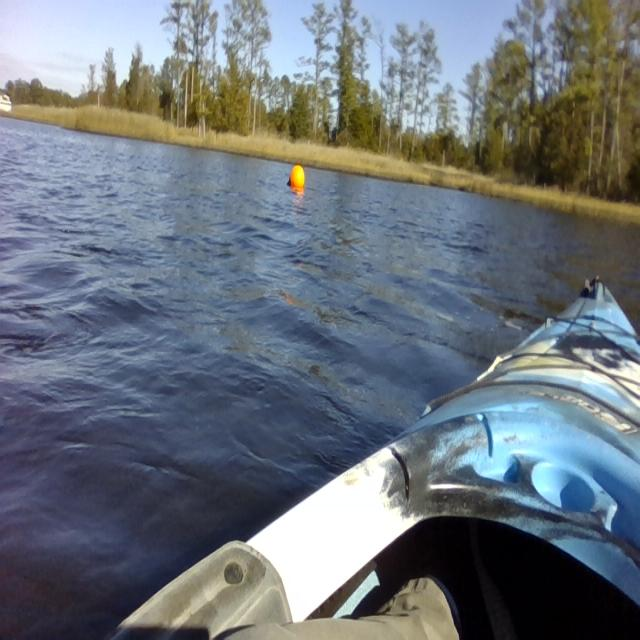Buoy: (287, 162, 307, 194)
